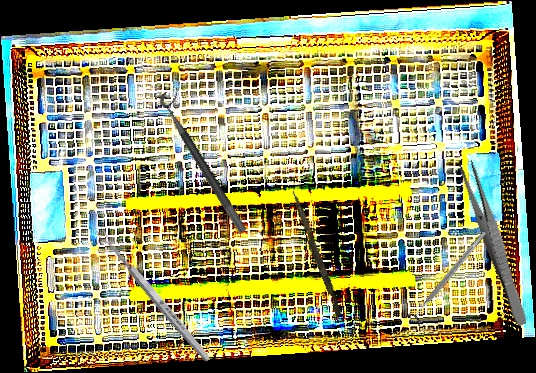Dressing Forceps: (456, 158, 533, 328)
Fixation Ring: (156, 85, 259, 235), (406, 227, 492, 327)
Pusher: (287, 190, 345, 317)
Surgical Spoon: (94, 226, 213, 364)
